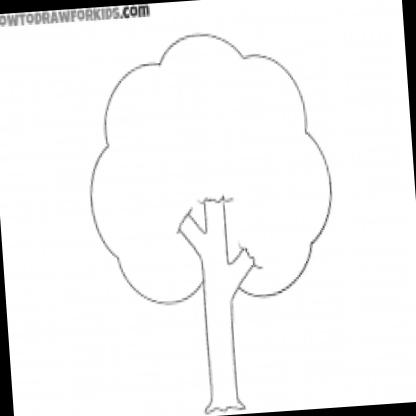branch_cut: (177, 198, 256, 300)
crown_cloud: (79, 26, 339, 308)
root_only: (202, 392, 250, 414)
trunk_straight: (202, 306, 241, 398)
